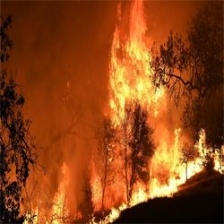fire: (91, 9, 198, 215), (15, 167, 84, 224)
